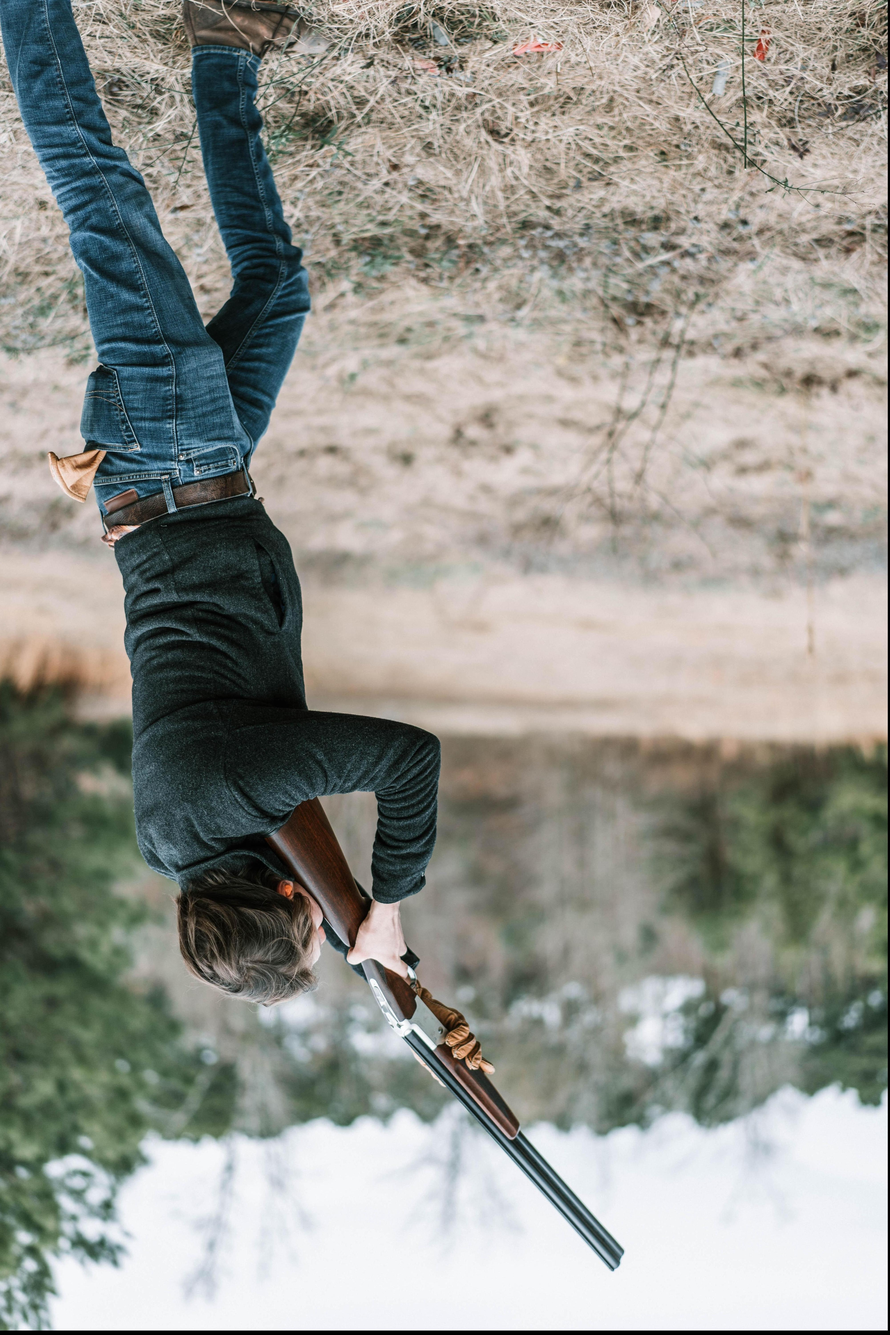larga: (272, 797, 627, 1276)
